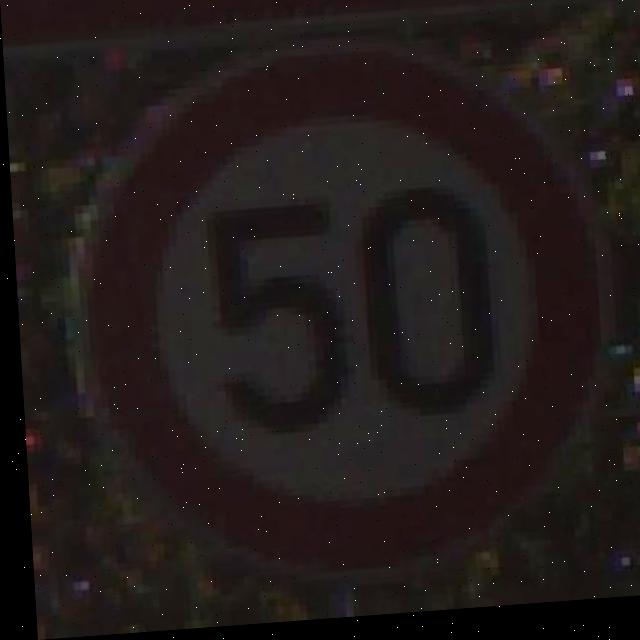Speed limit 50: (67, 27, 615, 593)
